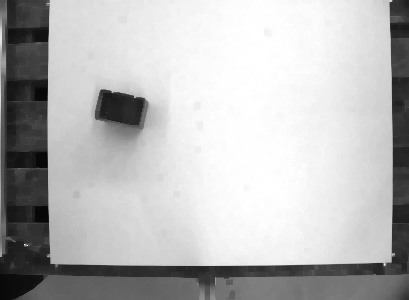kltxs: (93, 86, 153, 133)
